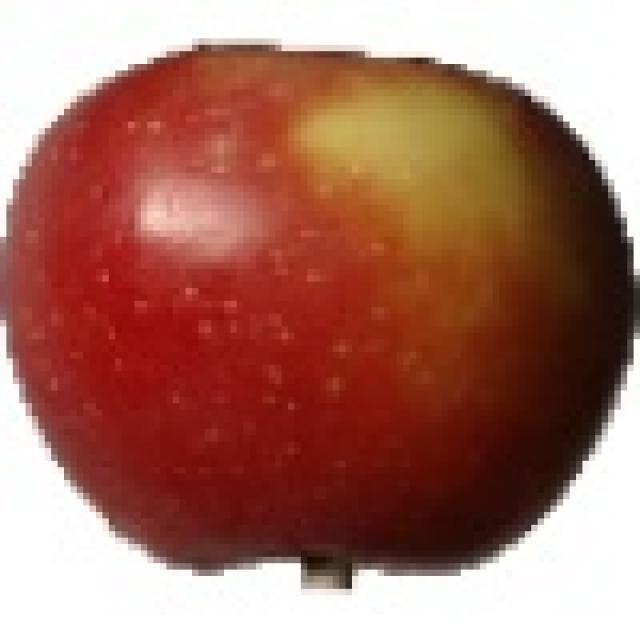Wet: (11, 43, 636, 580)
